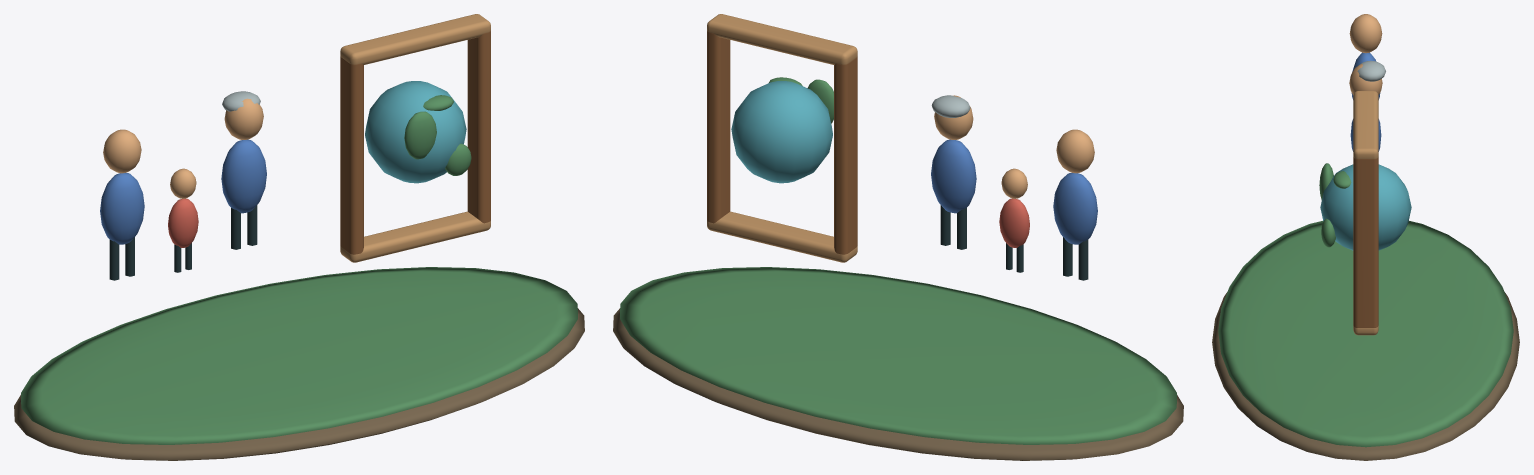
File: complete-first-world-boundary.glb
The picture shows the model from 3 angles, left to right: view 1: azimuth 30°, elevation 25°; view 2: azimuth 150°, elevation 25°; view 3: azimuth 270°, elevation 25°; orthographic projection. The views are drawn at different scales.
Parts seen in each view (by area): view 1: complete-first-world-boundary_surface_01, complete-first-world-boundary_surface_00, complete-first-world-boundary_surface_07, complete-first-world-boundary_surface_08, complete-first-world-boundary_surface_09, complete-first-world-boundary_surface_03, complete-first-world-boundary_surface_02, complete-first-world-boundary_surface_04, complete-first-world-boundary_surface_05; view 2: complete-first-world-boundary_surface_01, complete-first-world-boundary_surface_00, complete-first-world-boundary_surface_07, complete-first-world-boundary_surface_09, complete-first-world-boundary_surface_08, complete-first-world-boundary_surface_03, complete-first-world-boundary_surface_02, complete-first-world-boundary_surface_04, complete-first-world-boundary_surface_05, complete-first-world-boundary_surface_06; view 3: complete-first-world-boundary_surface_01, complete-first-world-boundary_surface_00, complete-first-world-boundary_surface_07, complete-first-world-boundary_surface_09, complete-first-world-boundary_surface_08, complete-first-world-boundary_surface_02, complete-first-world-boundary_surface_06, complete-first-world-boundary_surface_03.
Part boxes in pixels (x1=…): complete-first-world-boundary_surface_01: x1=21, y1=95, x2=577, y2=444; complete-first-world-boundary_surface_00: x1=14, y1=308, x2=584, y2=460; complete-first-world-boundary_surface_07: x1=340, y1=31, x2=490, y2=254; complete-first-world-boundary_surface_08: x1=340, y1=14, x2=490, y2=262; complete-first-world-boundary_surface_09: x1=365, y1=81, x2=466, y2=183; complete-first-world-boundary_surface_03: x1=100, y1=139, x2=266, y2=244; complete-first-world-boundary_surface_02: x1=103, y1=98, x2=263, y2=198; complete-first-world-boundary_surface_04: x1=109, y1=205, x2=257, y2=280; complete-first-world-boundary_surface_05: x1=168, y1=198, x2=198, y2=247; complete-first-world-boundary_surface_01: x1=620, y1=77, x2=1176, y2=444; complete-first-world-boundary_surface_00: x1=613, y1=308, x2=1183, y2=460; complete-first-world-boundary_surface_07: x1=707, y1=31, x2=857, y2=254; complete-first-world-boundary_surface_09: x1=731, y1=81, x2=832, y2=183; complete-first-world-boundary_surface_08: x1=707, y1=14, x2=857, y2=262; complete-first-world-boundary_surface_03: x1=931, y1=139, x2=1097, y2=244; complete-first-world-boundary_surface_02: x1=934, y1=95, x2=1094, y2=198; complete-first-world-boundary_surface_04: x1=940, y1=205, x2=1088, y2=280; complete-first-world-boundary_surface_05: x1=999, y1=198, x2=1029, y2=247; complete-first-world-boundary_surface_06: x1=931, y1=95, x2=970, y2=117; complete-first-world-boundary_surface_01: x1=1218, y1=163, x2=1513, y2=447; complete-first-world-boundary_surface_00: x1=1212, y1=292, x2=1519, y2=460; complete-first-world-boundary_surface_07: x1=1353, y1=157, x2=1378, y2=327; complete-first-world-boundary_surface_09: x1=1320, y1=164, x2=1411, y2=250; complete-first-world-boundary_surface_08: x1=1353, y1=91, x2=1378, y2=335; complete-first-world-boundary_surface_02: x1=1349, y1=14, x2=1382, y2=95; complete-first-world-boundary_surface_06: x1=1357, y1=60, x2=1385, y2=81; complete-first-world-boundary_surface_03: x1=1350, y1=52, x2=1381, y2=151.
Size of the model in its own units: 4.56 by 2.58 by 2.5.
